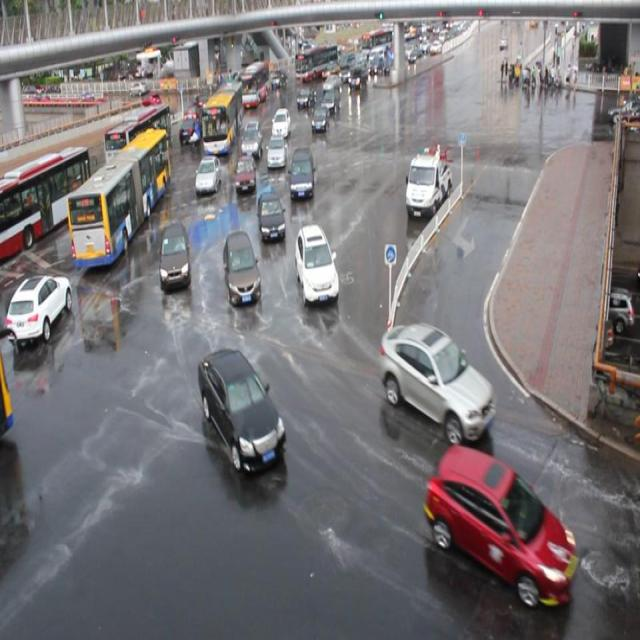bus: (404, 149, 452, 216)
car: (428, 443, 573, 604), (379, 318, 496, 444), (198, 342, 285, 476), (1, 270, 73, 350), (295, 223, 341, 307), (222, 229, 262, 302), (160, 220, 192, 286), (256, 188, 284, 242), (290, 144, 314, 199), (194, 152, 221, 196), (234, 152, 257, 196), (242, 118, 263, 159), (265, 132, 284, 170), (270, 106, 292, 137), (178, 117, 200, 145), (307, 106, 328, 135), (322, 88, 341, 112), (190, 89, 208, 114), (296, 83, 314, 108), (183, 102, 205, 121)
van: (67, 130, 174, 265), (0, 148, 90, 260), (106, 104, 171, 164), (204, 77, 243, 160), (238, 60, 269, 112)
